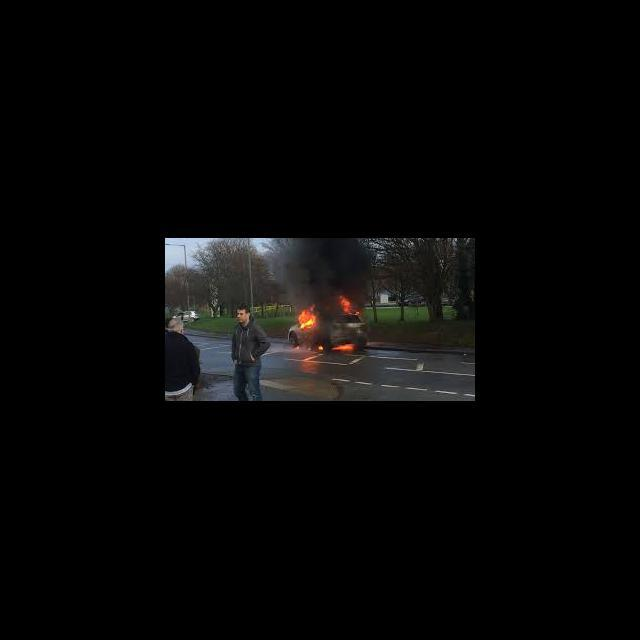Fire: (297, 301, 319, 333), (338, 292, 354, 314), (331, 340, 356, 353), (319, 344, 323, 351)
Smoke: (271, 239, 371, 306)
